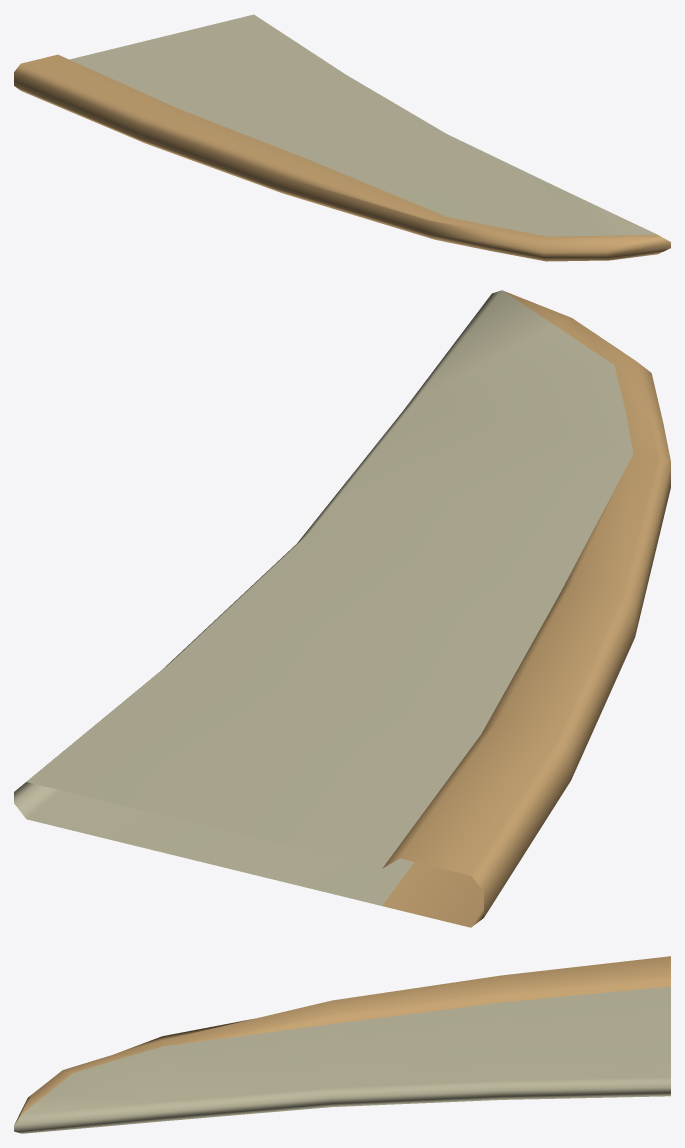
The model's file is Wing_L.fbx.
3 renders of one model, top to bottom at view 1: azimuth 30°, elevation 25°; view 2: azimuth 150°, elevation 25°; view 3: azimuth 270°, elevation 25°, orthographic. The views are drawn at different scales.
Parts seen in each view (by area): view 1: Wing_L; view 2: Wing_L; view 3: Wing_L.
Part boxes in pixels (x1,y1,x2,y2): Wing_L: [14, 14, 670, 261]; Wing_L: [14, 290, 670, 927]; Wing_L: [14, 956, 670, 1133].
Bounding box in the file's own units: 221 × 17.65 × 388.
